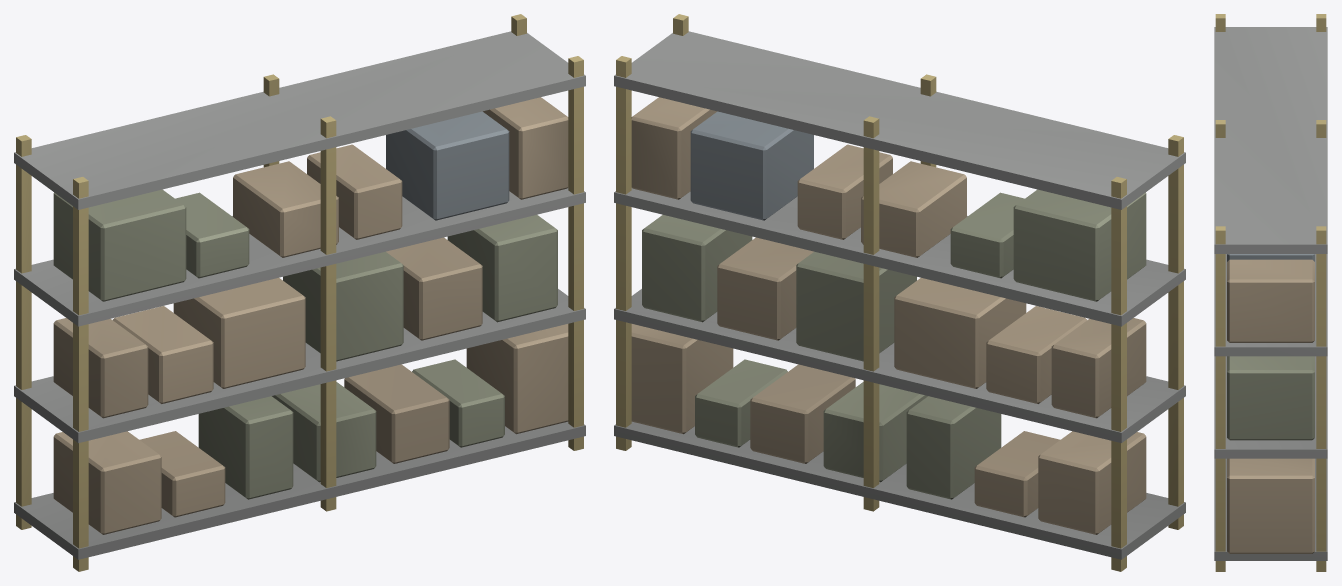
Rendered from int_shelving.glb.
The picture shows the model from 3 angles, left to right: view 1: azimuth 30°, elevation 25°; view 2: azimuth 150°, elevation 25°; view 3: azimuth 270°, elevation 25°; orthographic projection. The views are drawn at different scales.
Visible parts, largest first — view 1: int_shelving; view 2: int_shelving; view 3: int_shelving.
Boxes of the visible parts, left/top/right/bottom form: int_shelving: left=14, top=14, right=585, bottom=571; int_shelving: left=614, top=14, right=1185, bottom=571; int_shelving: left=1214, top=14, right=1327, bottom=571.
Size of the model in its own units: 4.15 by 3 by 0.9.
